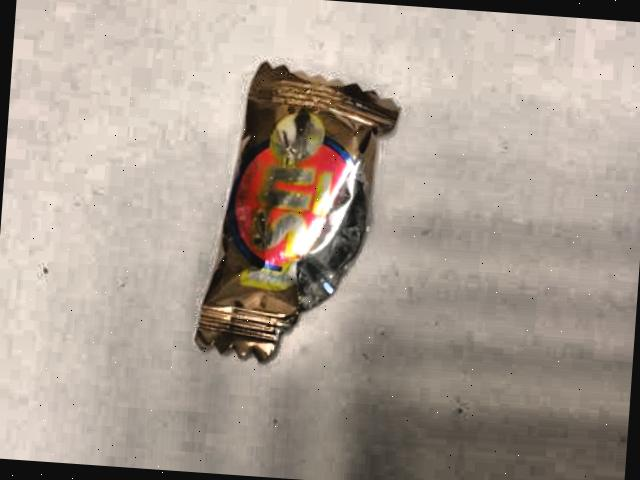Plastic: (140, 41, 462, 392)
